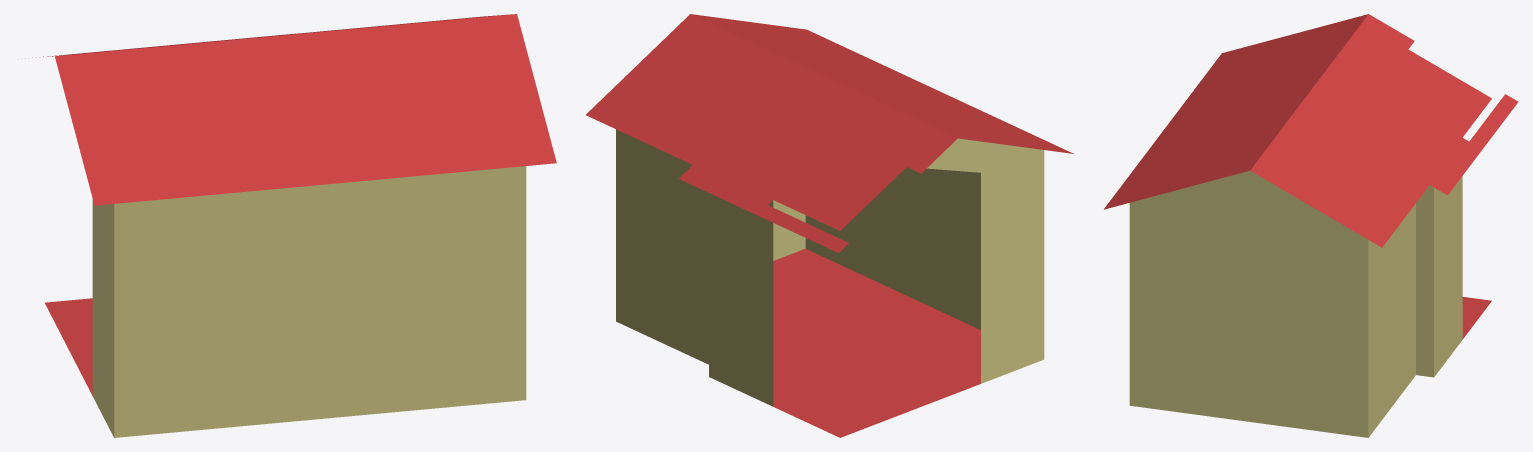
3 renders of one model, left to right at view 1: azimuth 30°, elevation 25°; view 2: azimuth 150°, elevation 25°; view 3: azimuth 270°, elevation 25°, orthographic. The views are drawn at different scales.
Bounding box in the file's own units: 16.39 × 14.8 × 10.25.
